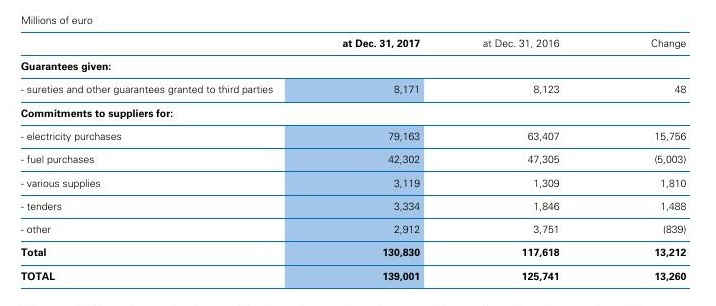table: (0, 0, 716, 306)
